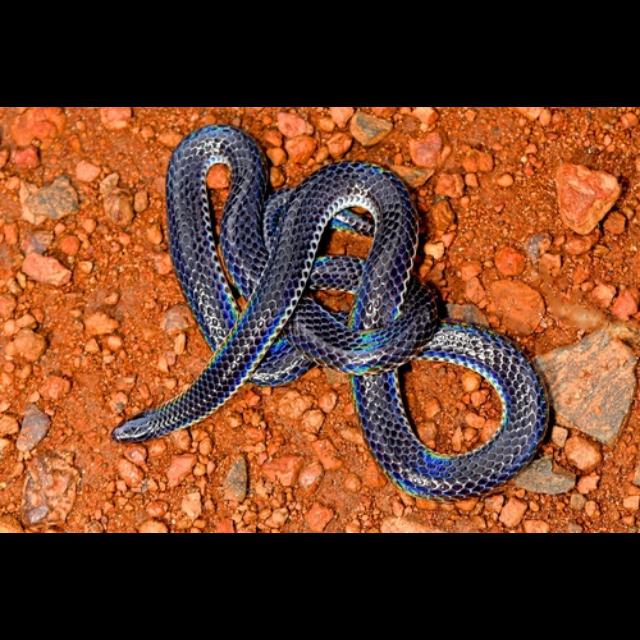snake: (110, 118, 554, 508)
